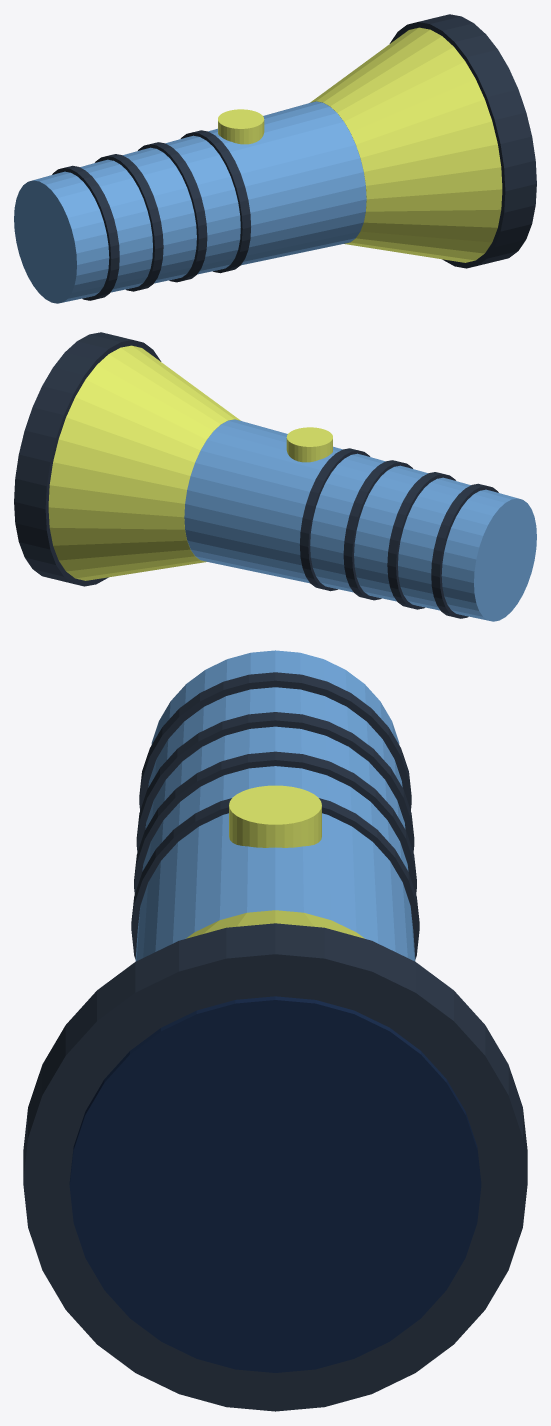
Rendered from flashlight.glb.
3 views of the same model, one above another, from view 1: azimuth 30°, elevation 25°; view 2: azimuth 150°, elevation 25°; view 3: azimuth 270°, elevation 25° (orthographic). The views are drawn at different scales.
Parts seen in each view (by area): view 1: grip, head, bezel, grip ring 3, grip ring 2, grip ring 1, grip ring 0, switch; view 2: grip, head, bezel, grip ring 3, grip ring 2, grip ring 1, grip ring 0, switch; view 3: lens, bezel, grip, switch, grip ring 0, grip ring 1, grip ring 2, grip ring 3, head.
Boxes of the visible parts, x1,y1,x2,y2 form: grip: [14, 101, 366, 303]; head: [310, 27, 502, 262]; bezel: [389, 14, 536, 268]; grip ring 3: [180, 130, 250, 273]; grip ring 2: [138, 142, 207, 282]; grip ring 1: [95, 154, 163, 291]; grip ring 0: [52, 165, 119, 300]; switch: [218, 109, 264, 144]; grip: [184, 419, 536, 621]; head: [48, 345, 240, 580]; bezel: [14, 332, 161, 586]; grip ring 3: [300, 448, 370, 591]; grip ring 2: [343, 460, 412, 600]; grip ring 1: [387, 472, 455, 609]; grip ring 0: [431, 483, 498, 618]; switch: [286, 427, 332, 462]; lens: [69, 996, 481, 1372]; bezel: [23, 923, 527, 1411]; grip: [135, 650, 415, 961]; switch: [229, 785, 321, 847]; grip ring 0: [139, 672, 411, 810]; grip ring 1: [136, 712, 414, 852]; grip ring 2: [134, 751, 416, 894]; grip ring 3: [131, 798, 419, 959]; head: [186, 910, 364, 938].
Size of the model in its own units: 1.5 by 0.76 by 0.76.
